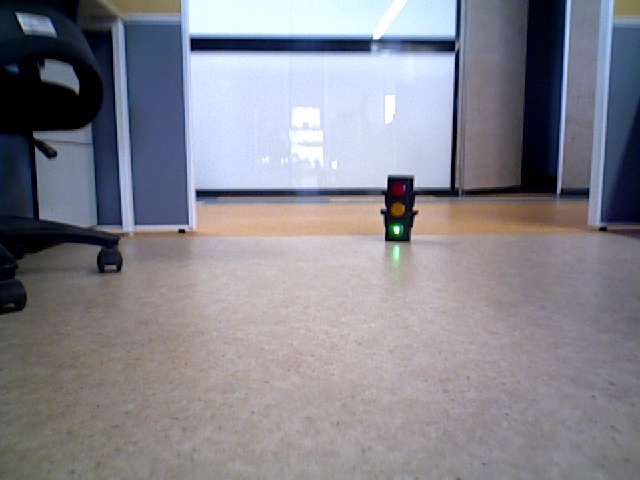green: (387, 176, 410, 236)
